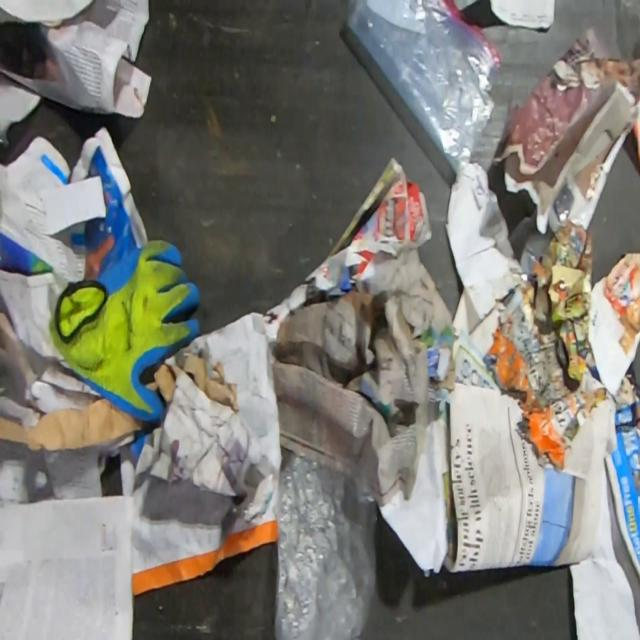cardboard: (0, 230, 98, 424), (0, 397, 148, 454), (182, 352, 240, 412), (145, 361, 176, 404)
rigid_plastic: (509, 205, 556, 282)
soft_plastic: (342, 0, 506, 176), (50, 237, 202, 426), (272, 440, 378, 640)
